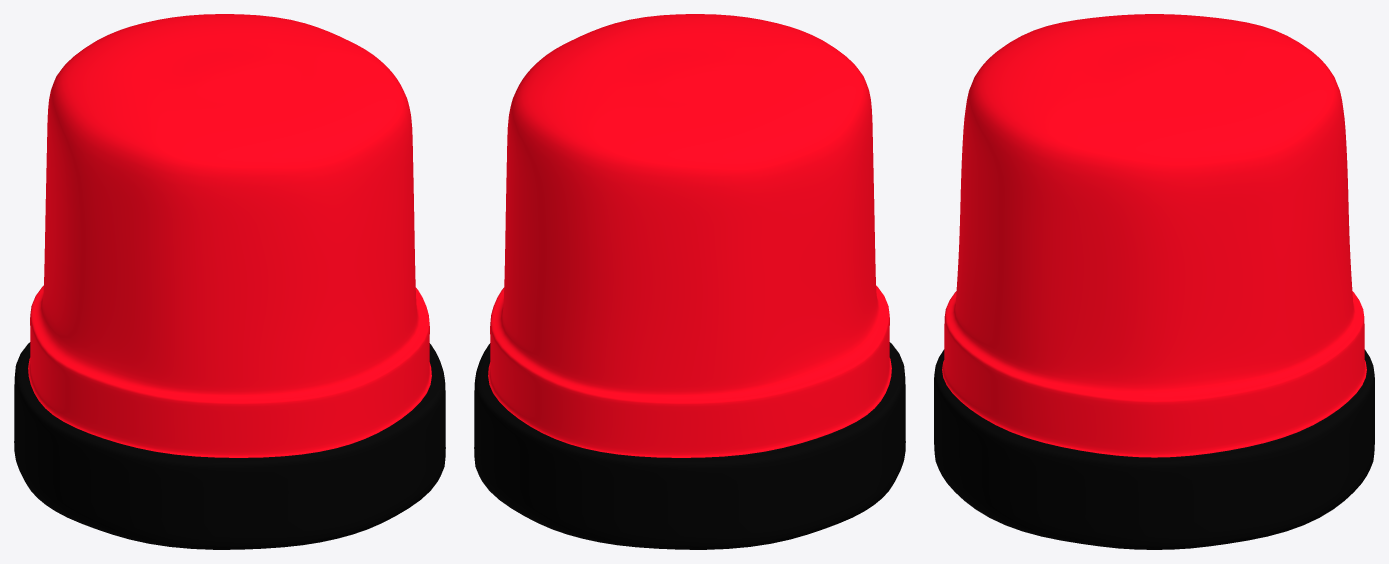
File: alarm_red.glb
The picture shows the model from 3 angles, left to right: view 1: azimuth 30°, elevation 25°; view 2: azimuth 150°, elevation 25°; view 3: azimuth 270°, elevation 25°; orthographic projection.
Parts seen in each view (by area): view 1: Sphere; view 2: Sphere; view 3: Sphere.
Boxes of the visible parts, x1,y1,x2,y2 form: Sphere: (14, 14, 445, 549); Sphere: (474, 14, 905, 549); Sphere: (934, 14, 1374, 549).
Size of the model in its own units: 2.01 by 2.03 by 2.03.
